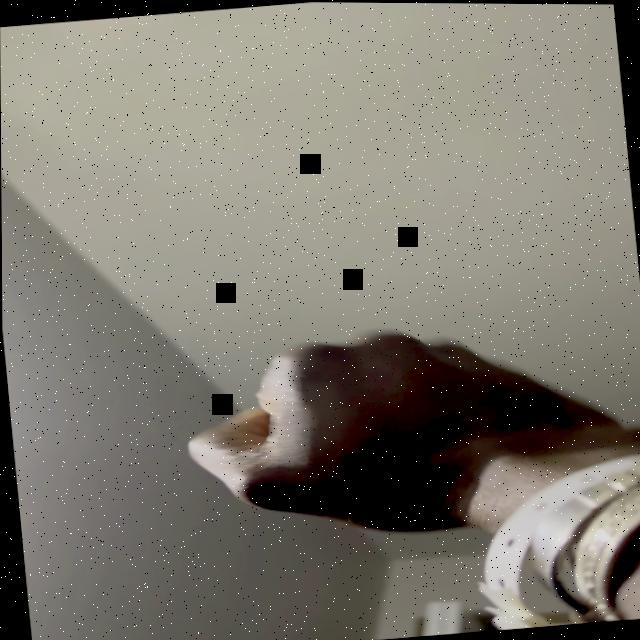Rock: (175, 308, 626, 548)
